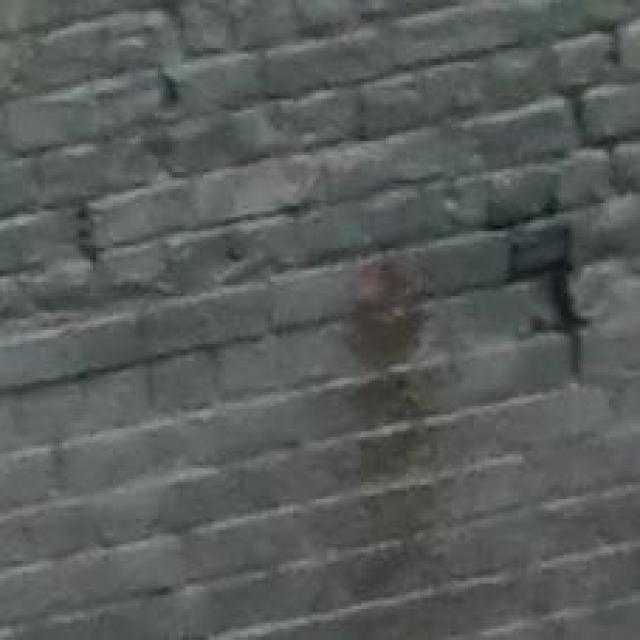Crack: (423, 116, 640, 440)
